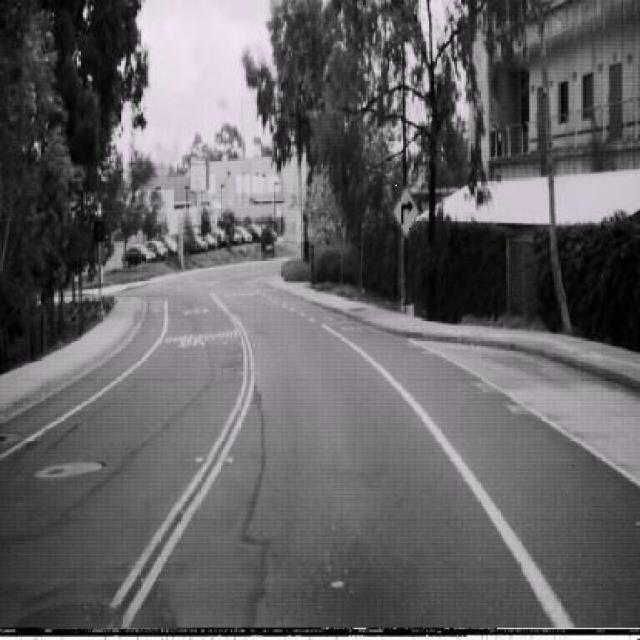turnRight: (392, 185, 418, 239)
